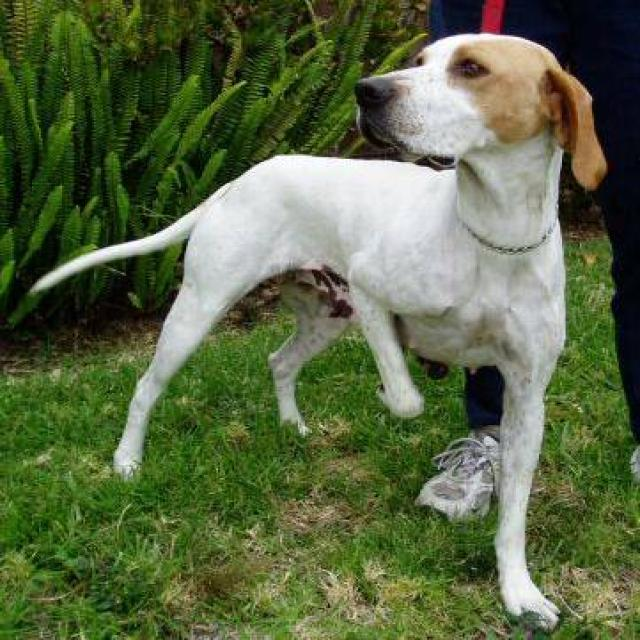dog: (25, 31, 606, 635)
